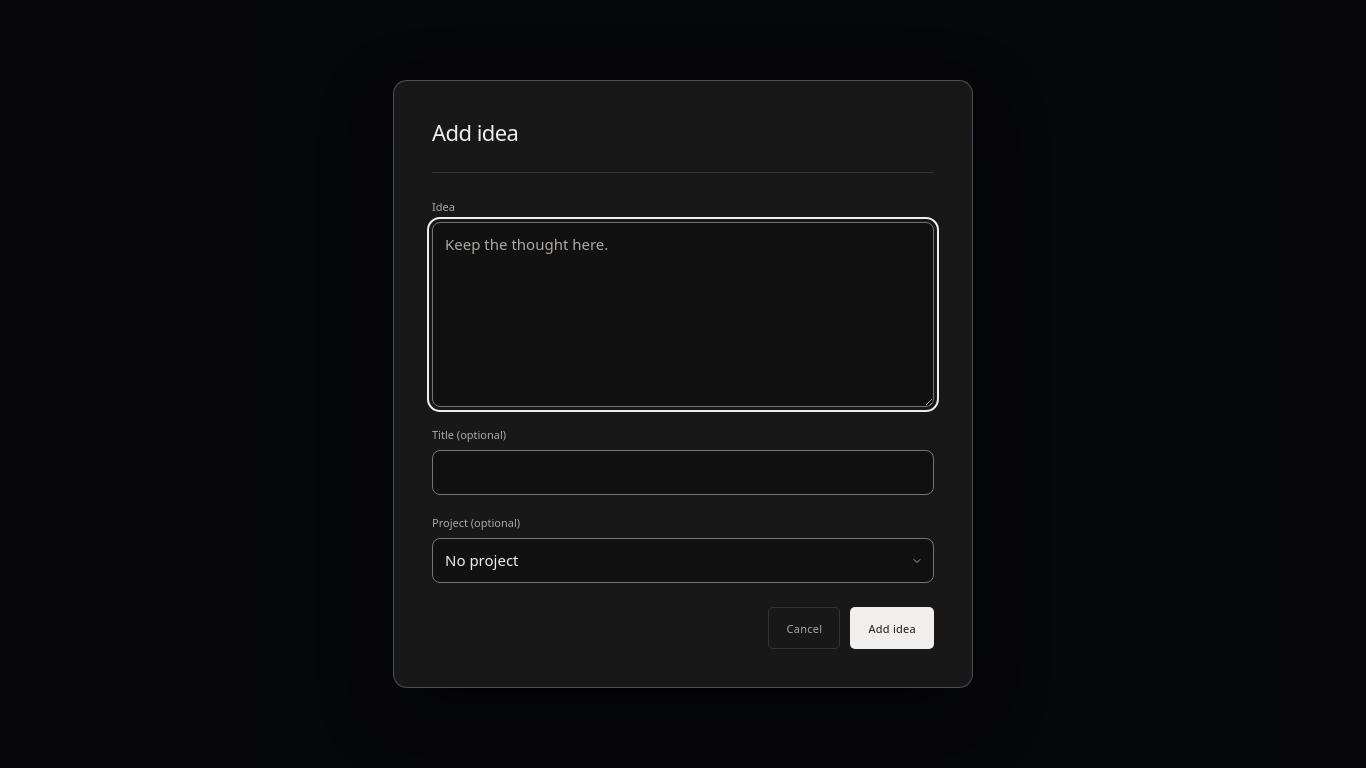
Test: Collection editor › retains entered text after a failed save and allows retry
Later steps or results of the test are not shown.
Type "Remember this" into the text box labelled "Idea" at (683, 314), box [432,222,934,407]
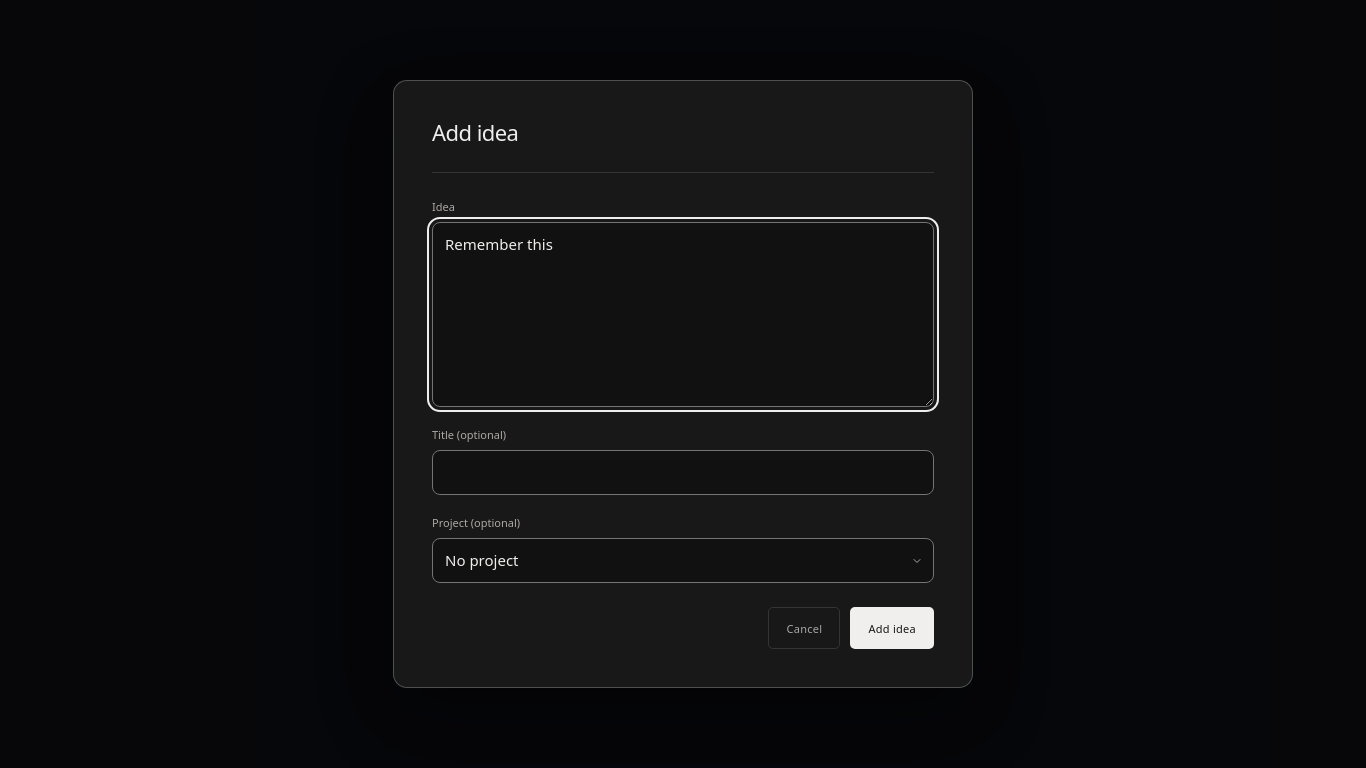
Click the button "Add idea" at (892, 628), box [850,607,934,649]
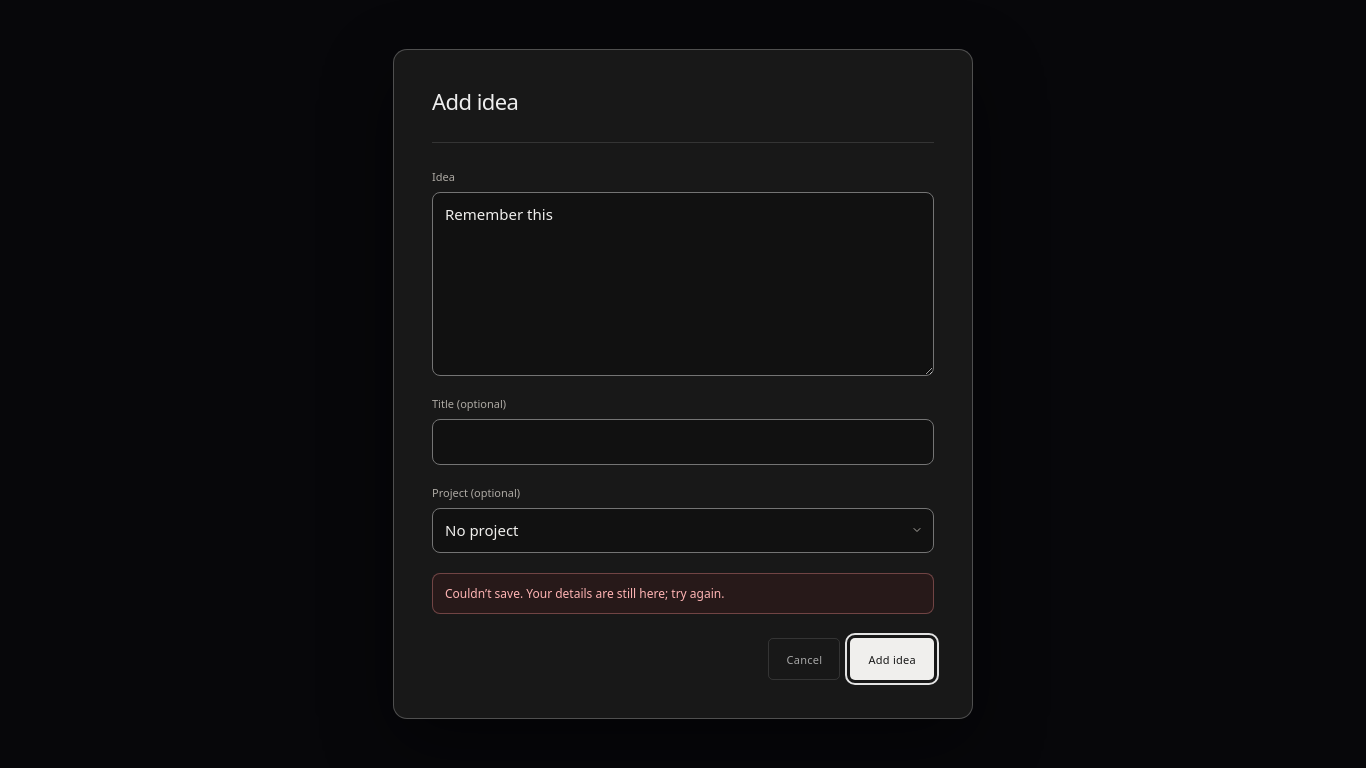
Now the message "Couldn’t save. Your details are still here; try again." is shown, box [432,573,934,614]
